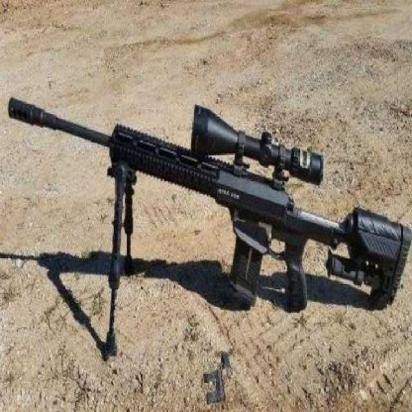Gun: (7, 95, 412, 308)
